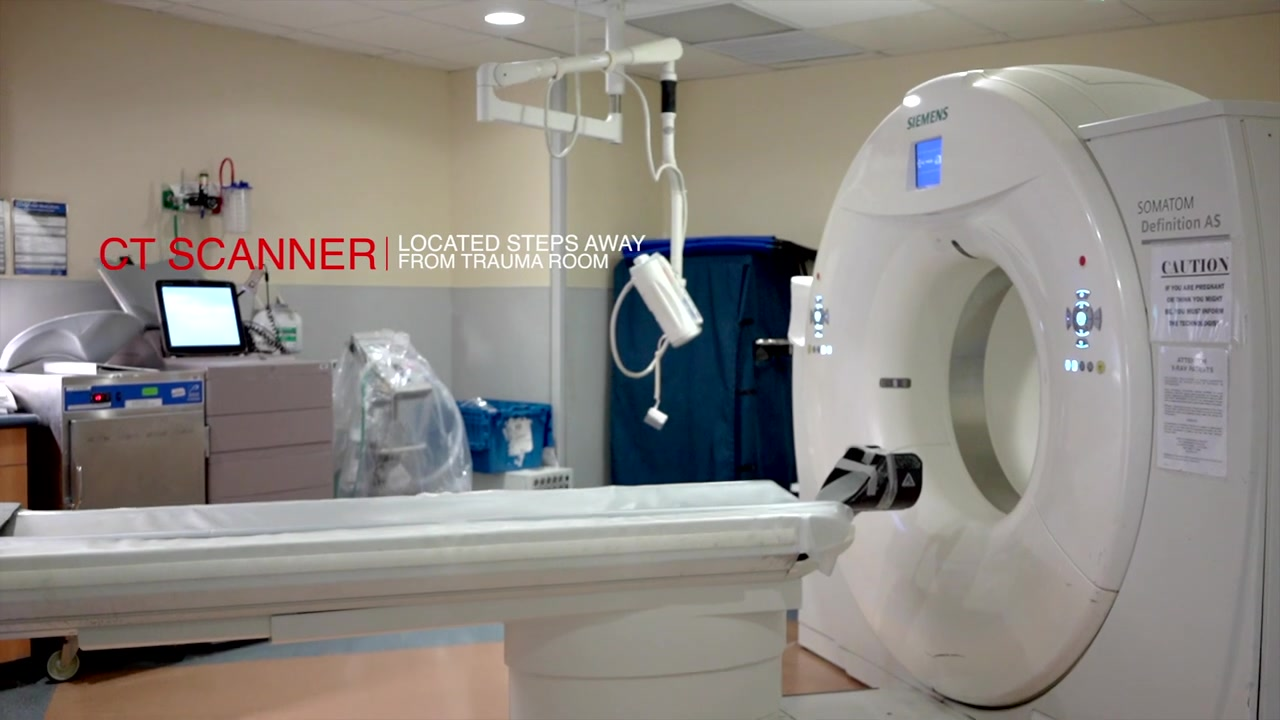bedside_monitor: (157, 283, 244, 351)
drawer: (197, 357, 334, 502)
handle: (72, 462, 86, 510)
waste_bin: (455, 394, 557, 473)
xray_bed: (1, 445, 846, 638)
xray_machine: (789, 52, 1267, 720)
